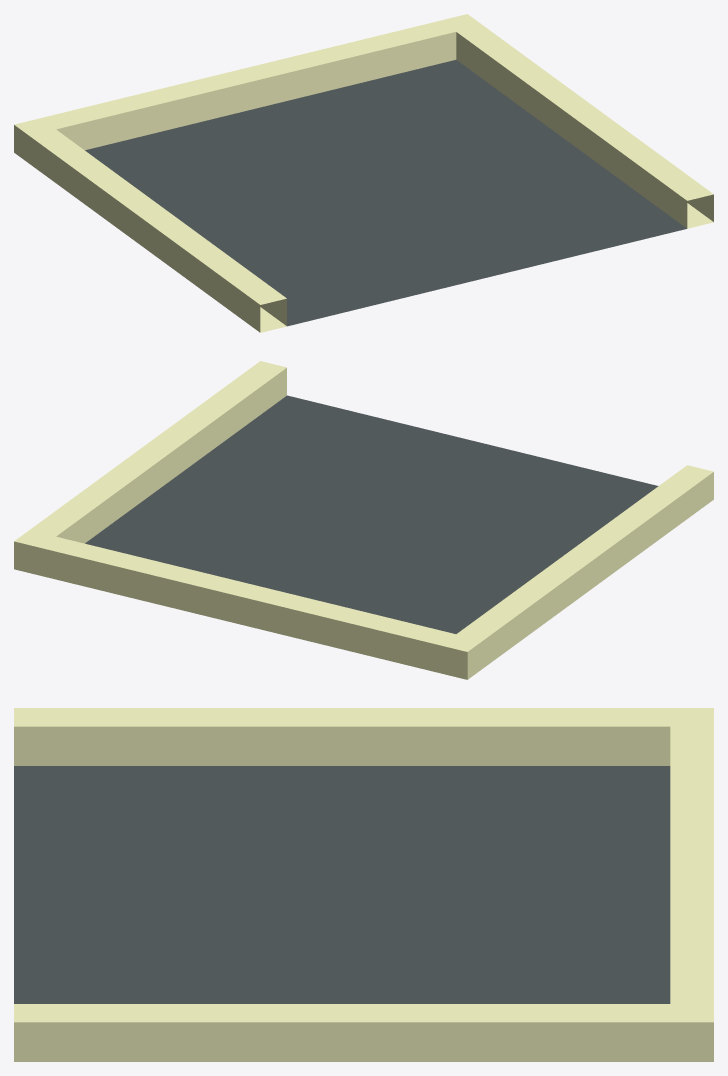
The model's file is road_edge3_up.fbx.
The picture shows the model from 3 angles, top to bottom: view 1: azimuth 30°, elevation 25°; view 2: azimuth 150°, elevation 25°; view 3: azimuth 270°, elevation 25°; orthographic projection. The views are drawn at different scales.
Parts seen in each view (by area): view 1: pPlane1, pPlane2; view 2: pPlane1, pPlane2; view 3: pPlane1, pPlane2.
Boxes of the visible parts, bbox=[...] form: pPlane1: bbox=[85, 60, 686, 326]; pPlane2: bbox=[14, 14, 713, 332]; pPlane1: bbox=[85, 395, 658, 633]; pPlane2: bbox=[14, 361, 713, 679]; pPlane1: bbox=[14, 766, 670, 1003]; pPlane2: bbox=[14, 708, 713, 1061].
Size of the model in its own units: 113 by 6.67 by 107.
